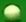white: (0, 0, 26, 22)
